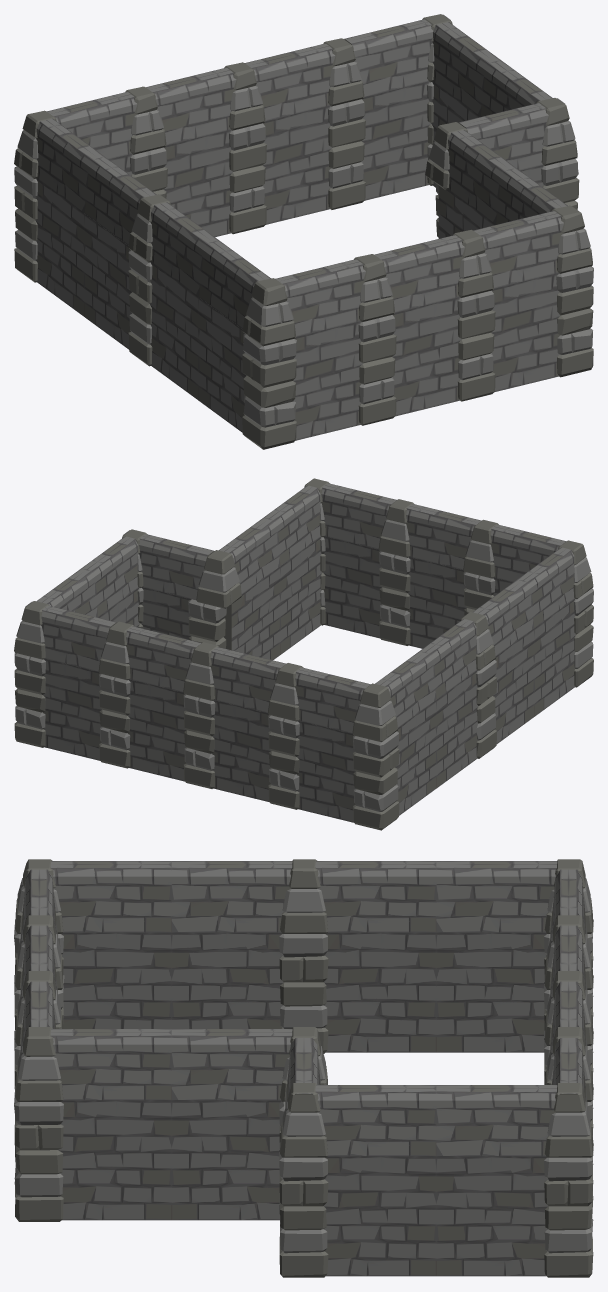
Rendered from SM_Bld_Preset_House_10_Base_Optimized.glb.
3 views of the same model, one above another, from view 1: azimuth 30°, elevation 25°; view 2: azimuth 150°, elevation 25°; view 3: azimuth 270°, elevation 25° (orthographic). The views are drawn at different scales.
Visible parts, largest first — view 1: SM_Bld_Preset_House_10_Base_Optimized; view 2: SM_Bld_Preset_House_10_Base_Optimized; view 3: SM_Bld_Preset_House_10_Base_Optimized.
Boxes of the visible parts, x1=… form: SM_Bld_Preset_House_10_Base_Optimized: x1=14, y1=14, x2=593, y2=449; SM_Bld_Preset_House_10_Base_Optimized: x1=14, y1=478, x2=593, y2=830; SM_Bld_Preset_House_10_Base_Optimized: x1=14, y1=859, x2=593, y2=1277.
Size of the model in its own units: 10.95 by 3.78 by 10.95.
Materials: 1 (1 with a texture image).
